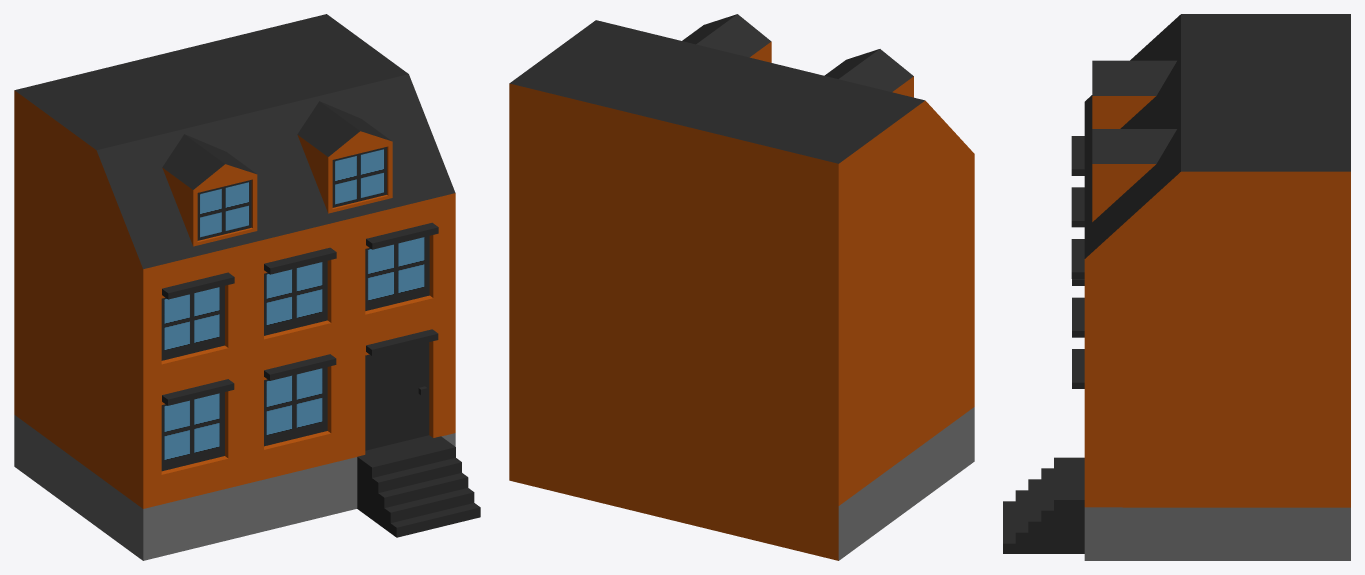
File: NormalSquereOrange.obj
The picture shows the model from 3 angles, left to right: view 1: azimuth 30°, elevation 25°; view 2: azimuth 150°, elevation 25°; view 3: azimuth 270°, elevation 25°; orthographic projection. The views are drawn at different scales.
Parts seen in each view (by area): view 1: ZwyklayKwadratowyPomaranczowy; view 2: ZwyklayKwadratowyPomaranczowy; view 3: ZwyklayKwadratowyPomaranczowy.
Boxes of the visible parts, box(x1,y1,x2,y2) form: ZwyklayKwadratowyPomaranczowy: box(14, 14, 480, 560); ZwyklayKwadratowyPomaranczowy: box(509, 14, 974, 560); ZwyklayKwadratowyPomaranczowy: box(1003, 14, 1350, 560).
Bounding box in the file's own units: 7 × 8.07 × 6.53.
